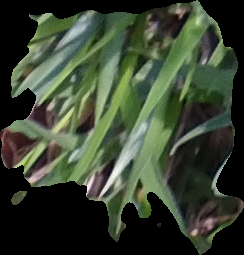grass: (1, 1, 242, 253)
